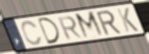C: (21, 19, 43, 47)
D: (37, 17, 61, 46)
K: (115, 7, 141, 34)
M: (73, 10, 107, 41)
R: (95, 9, 123, 37), (56, 15, 84, 41)
